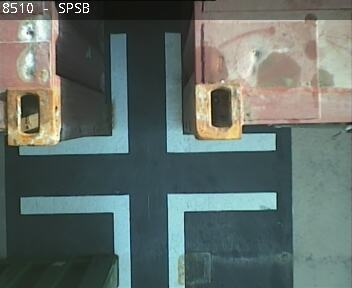groundmarker_1: (19, 34, 276, 156), (22, 192, 276, 288)
